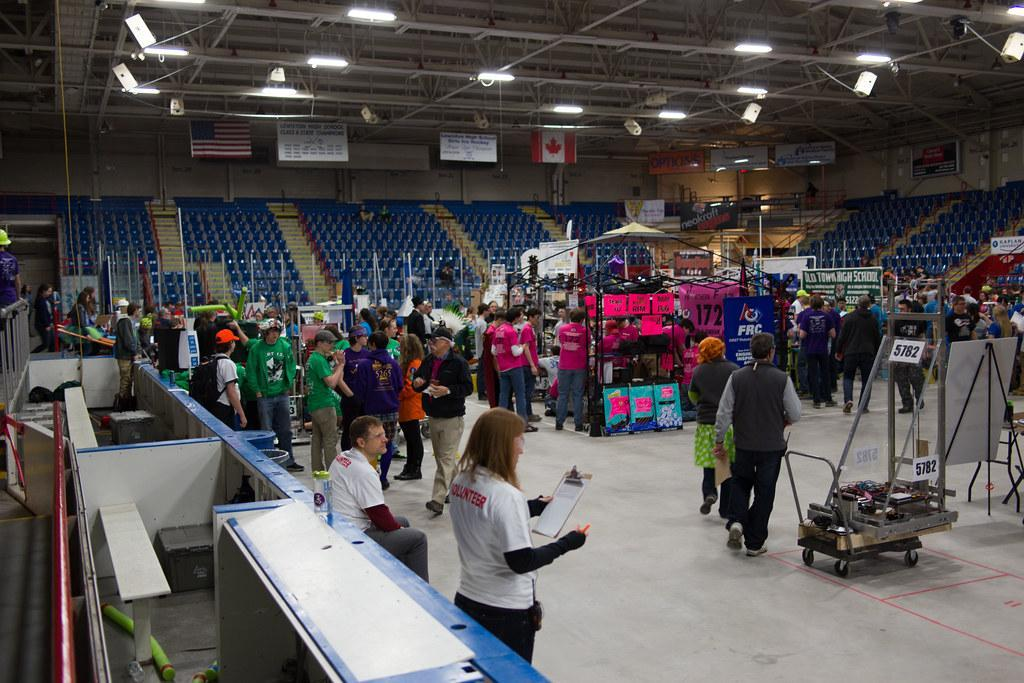robot: (824, 260, 966, 542), (960, 263, 966, 281)
